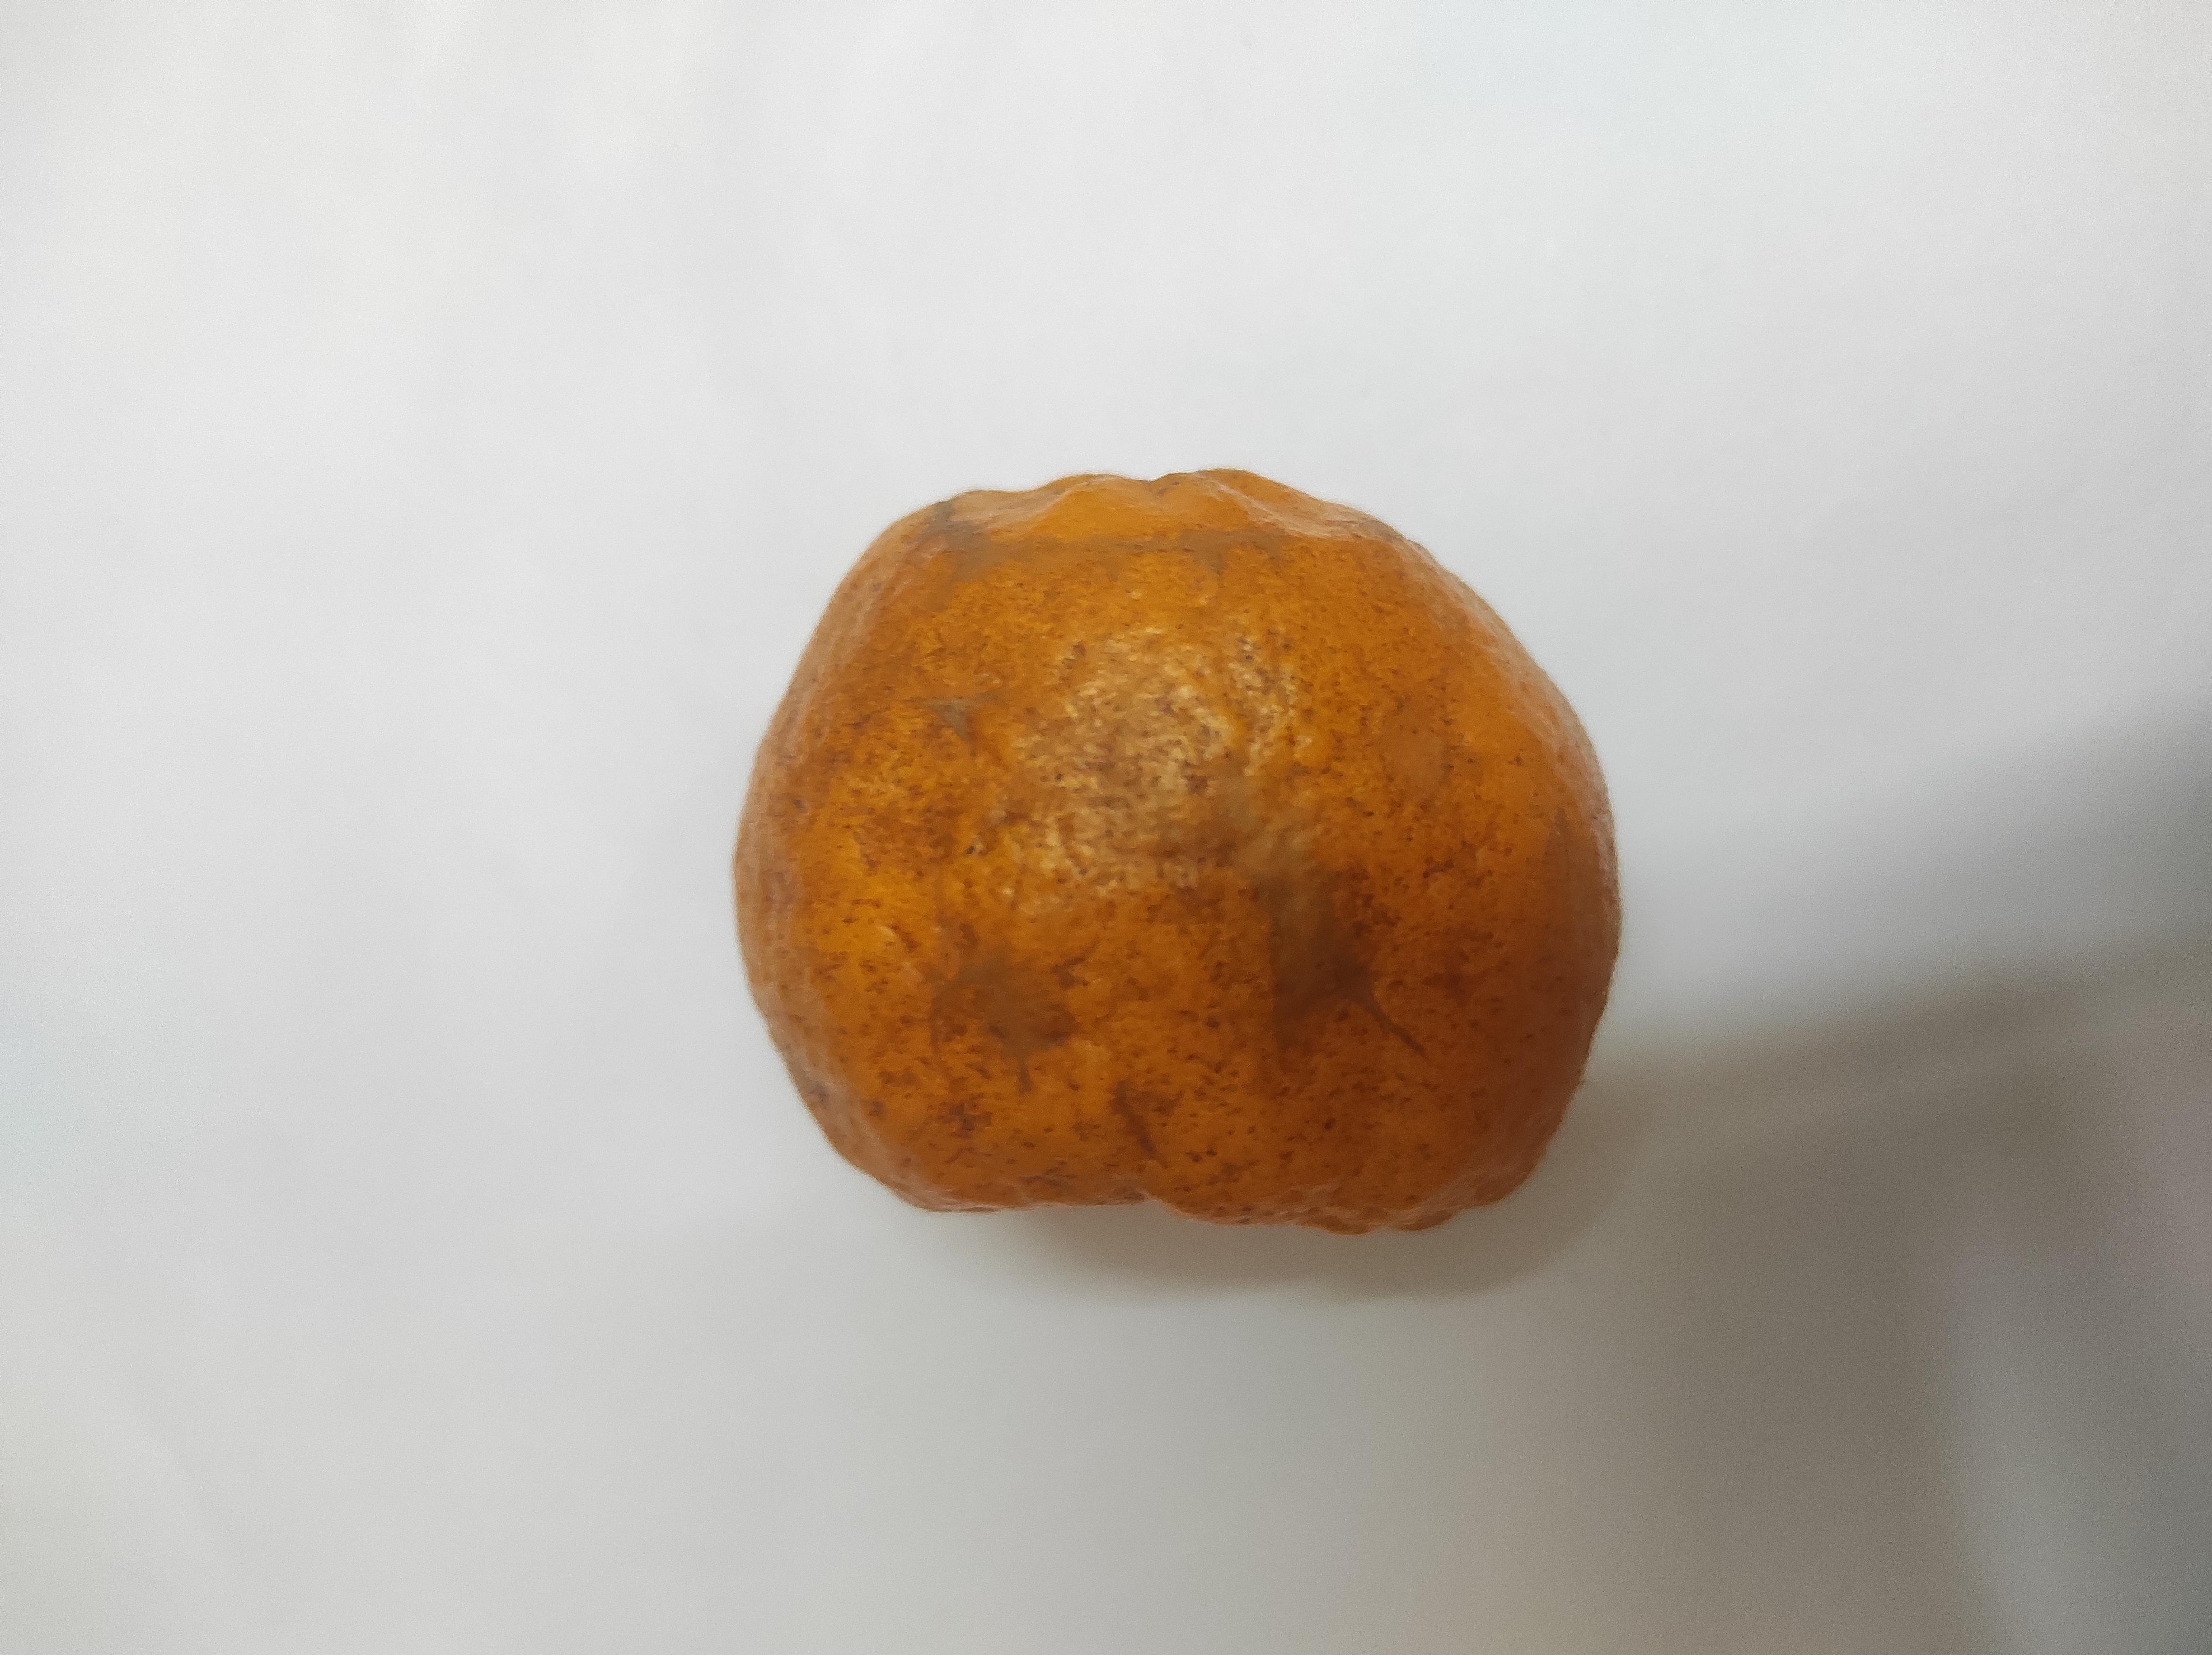Unripe: (586, 415, 1487, 1177)
